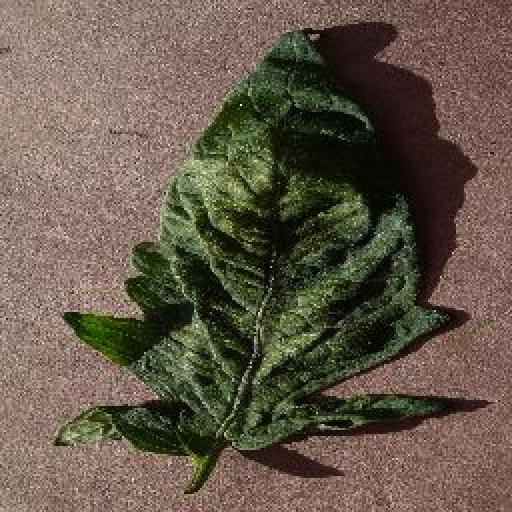disease_tomato: (58, 23, 447, 457)
